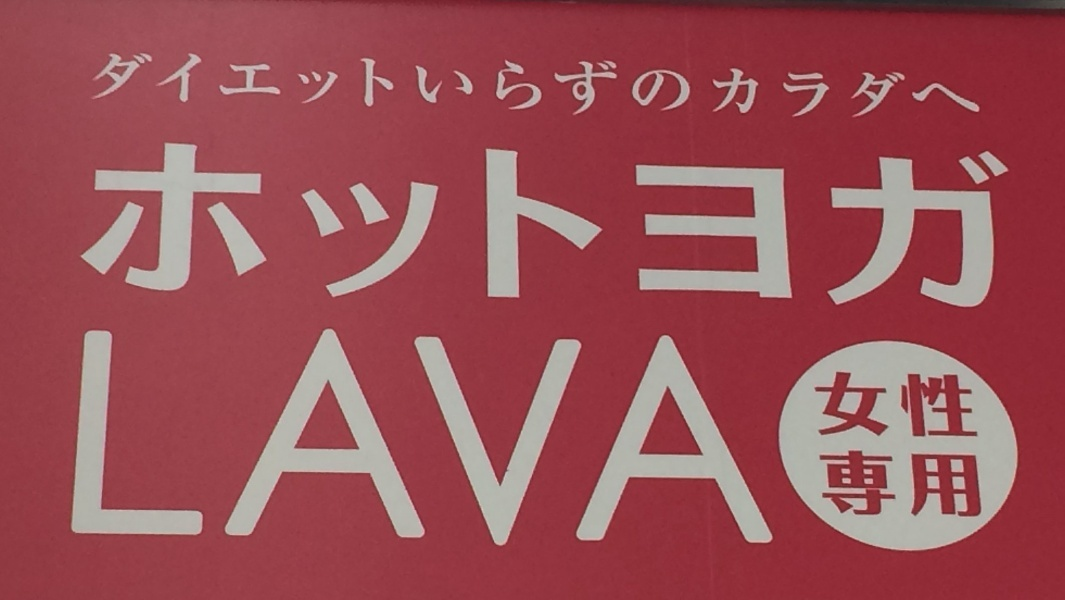text: (97, 329, 112, 545), (113, 329, 128, 545), (129, 329, 144, 545), (145, 329, 160, 545), (161, 329, 176, 545), (177, 329, 192, 545), (193, 329, 208, 545), (209, 329, 224, 545), (225, 329, 240, 545), (241, 329, 256, 545), (257, 329, 272, 545), (273, 329, 288, 545), (289, 329, 304, 545), (305, 329, 320, 545), (321, 329, 336, 545), (337, 329, 352, 545), (353, 329, 368, 545), (369, 329, 384, 545), (385, 329, 400, 545), (401, 329, 416, 545), (417, 329, 432, 545), (433, 329, 448, 545), (449, 329, 464, 545), (465, 329, 480, 545), (481, 329, 496, 545), (497, 329, 512, 545), (513, 329, 528, 545), (529, 329, 544, 545), (545, 329, 560, 545), (561, 329, 576, 545), (577, 329, 592, 545), (593, 329, 608, 545), (609, 329, 624, 545), (625, 329, 640, 545), (641, 329, 656, 545), (657, 329, 672, 545), (673, 329, 688, 545), (689, 329, 704, 545), (705, 329, 720, 545), (721, 329, 736, 545), (737, 329, 752, 545), (753, 329, 768, 545), (993, 142, 1009, 315), (97, 142, 112, 315), (113, 142, 128, 315), (129, 142, 144, 315), (145, 142, 160, 315), (161, 142, 176, 315), (177, 142, 192, 315), (193, 142, 208, 315), (209, 142, 224, 315), (225, 142, 240, 315), (241, 142, 256, 315), (257, 142, 272, 315), (273, 142, 288, 315), (289, 142, 304, 315), (305, 142, 320, 315), (321, 142, 336, 315), (337, 142, 352, 315), (353, 142, 368, 315), (369, 142, 384, 315), (385, 142, 400, 315), (401, 142, 416, 315), (417, 142, 432, 315), (433, 142, 448, 315), (449, 142, 464, 315), (465, 142, 480, 315), (481, 142, 496, 315), (497, 142, 512, 315), (513, 142, 528, 315), (529, 142, 544, 315), (545, 142, 560, 315), (561, 142, 576, 315), (577, 142, 592, 315), (593, 142, 608, 315), (609, 142, 624, 315), (625, 142, 640, 315), (641, 142, 656, 315), (657, 142, 672, 315), (673, 142, 688, 315), (689, 142, 704, 315), (705, 142, 720, 315), (721, 142, 736, 315), (737, 142, 752, 315), (753, 142, 768, 315), (769, 142, 784, 315), (785, 142, 800, 315), (801, 142, 816, 315), (817, 142, 832, 315), (833, 142, 848, 315), (849, 142, 864, 315), (865, 142, 880, 315), (881, 142, 896, 315), (897, 142, 912, 315), (913, 142, 928, 315), (929, 142, 944, 315), (945, 142, 960, 315), (961, 142, 976, 315), (977, 142, 992, 315), (86, 329, 96, 545), (769, 329, 777, 545), (817, 373, 832, 442), (833, 373, 848, 442), (849, 373, 864, 442), (865, 373, 880, 442), (881, 373, 896, 442), (897, 373, 912, 442), (913, 373, 928, 442), (929, 373, 944, 442), (945, 373, 960, 442), (961, 373, 976, 442), (97, 51, 112, 119), (113, 51, 128, 119), (129, 51, 144, 119), (145, 51, 160, 119), (161, 51, 176, 119), (177, 51, 192, 119), (193, 51, 208, 119), (209, 51, 224, 119), (225, 51, 240, 119), (241, 51, 256, 119), (257, 51, 272, 119), (273, 51, 288, 119), (289, 51, 304, 119), (305, 51, 320, 119), (321, 51, 336, 119), (337, 51, 352, 119), (353, 51, 368, 119), (369, 51, 384, 119), (385, 51, 400, 119), (401, 51, 416, 119), (417, 51, 432, 119), (433, 51, 448, 119), (449, 51, 464, 119), (465, 51, 480, 119), (481, 51, 496, 119), (497, 51, 512, 119), (513, 51, 528, 119), (529, 51, 544, 119), (545, 51, 560, 119), (561, 51, 576, 119), (577, 51, 592, 119), (593, 51, 608, 119), (609, 51, 624, 119), (625, 51, 640, 119), (641, 51, 656, 119), (657, 51, 672, 119), (673, 51, 688, 119), (689, 51, 704, 119), (705, 51, 720, 119), (721, 51, 736, 119), (737, 51, 752, 119), (753, 51, 768, 119), (769, 51, 784, 119), (785, 51, 800, 119), (801, 51, 816, 119), (817, 51, 832, 119), (833, 51, 848, 119), (849, 51, 864, 119), (865, 51, 880, 119), (881, 51, 896, 119), (897, 51, 912, 119), (913, 51, 928, 119), (929, 51, 944, 119), (945, 51, 960, 119), (961, 51, 976, 119), (833, 453, 848, 519), (849, 453, 864, 519), (865, 453, 880, 519), (881, 453, 896, 519), (897, 453, 912, 519), (913, 453, 928, 519), (929, 453, 944, 519), (945, 453, 960, 519), (961, 453, 976, 519), (819, 453, 832, 519), (93, 142, 96, 315), (977, 51, 984, 119), (977, 453, 984, 519), (977, 373, 980, 442), (814, 373, 816, 442)
